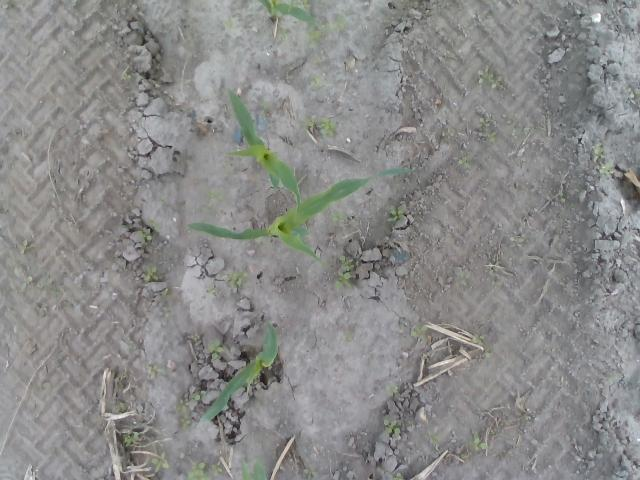Maize: (185, 158, 415, 268), (226, 88, 304, 222), (197, 318, 280, 426), (258, 0, 318, 28), (240, 460, 267, 480)
Weeds: (186, 461, 223, 480), (334, 255, 354, 289), (304, 119, 338, 139), (478, 65, 503, 89), (302, 25, 322, 50), (176, 398, 192, 429), (322, 15, 348, 34), (225, 269, 249, 289), (14, 268, 32, 294), (207, 336, 224, 360), (158, 291, 172, 320), (151, 451, 169, 473), (383, 414, 401, 434), (142, 264, 160, 283), (386, 206, 406, 222), (307, 74, 326, 90), (598, 159, 614, 177), (120, 430, 140, 444), (410, 324, 429, 338), (592, 144, 606, 162), (257, 96, 269, 116), (137, 228, 154, 242), (302, 467, 320, 480), (112, 400, 128, 414), (473, 434, 486, 450), (458, 270, 471, 286), (207, 188, 224, 200), (223, 15, 236, 30), (456, 158, 472, 170), (288, 0, 312, 8), (511, 235, 526, 247), (476, 115, 489, 128), (146, 364, 158, 378), (512, 128, 530, 137), (330, 211, 346, 221), (486, 130, 498, 143), (472, 334, 486, 345), (278, 30, 290, 42), (384, 383, 398, 393), (625, 86, 635, 100), (190, 390, 202, 400), (191, 206, 210, 212), (388, 473, 404, 480), (127, 74, 142, 81), (20, 239, 27, 254), (430, 434, 439, 444), (207, 287, 216, 297), (152, 223, 160, 232), (192, 335, 200, 341)
